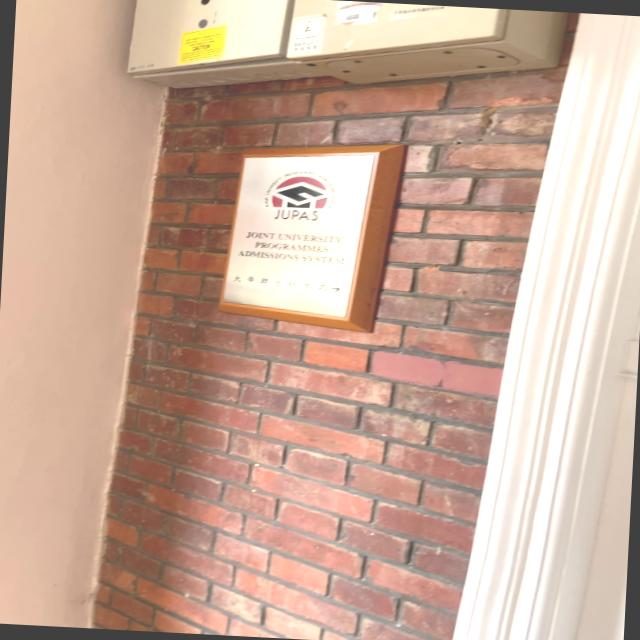jupasOffice: (218, 128, 412, 336)
